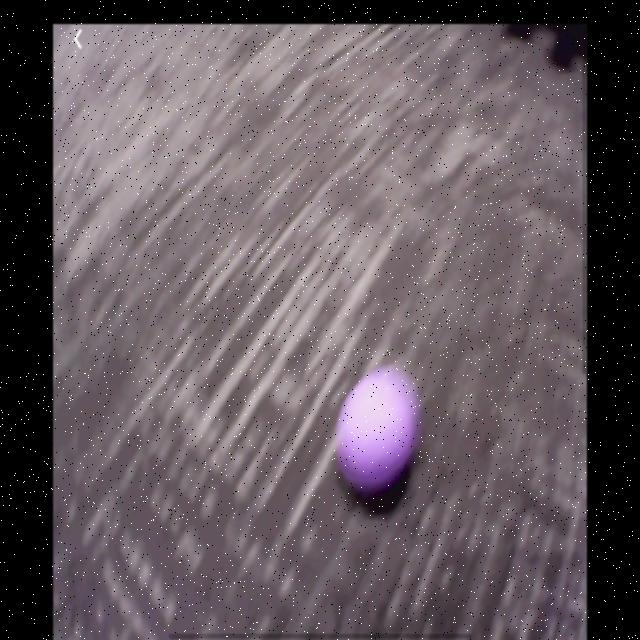ball: (338, 376, 420, 494)
